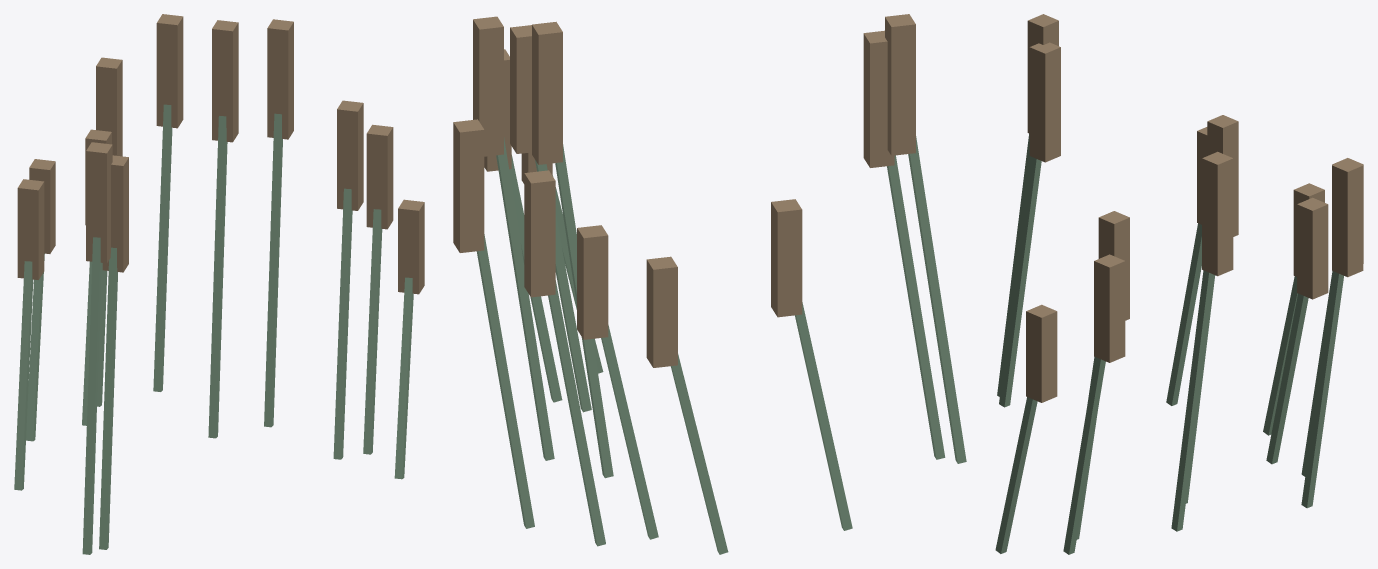
3 renders of one model, left to right at view 1: azimuth 30°, elevation 25°; view 2: azimuth 150°, elevation 25°; view 3: azimuth 270°, elevation 25°, orthographic. The views are drawn at different scales.
Size of the model in its own units: 1.37 by 1.4 by 1.17.
